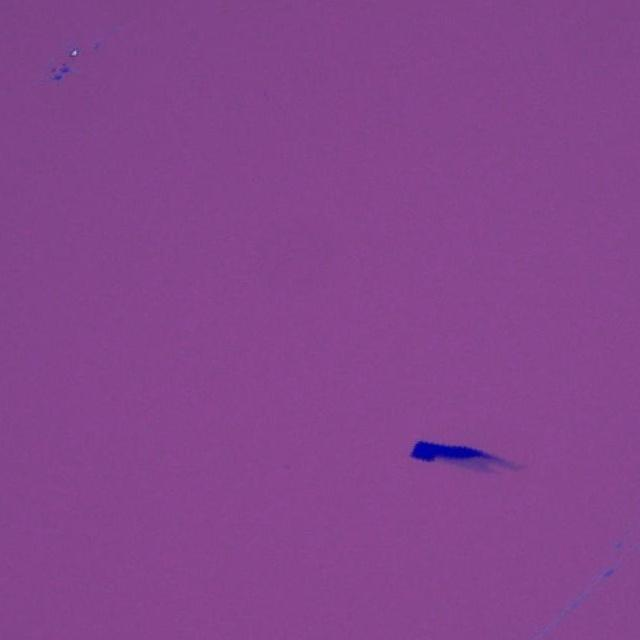monolayer-eWW4: (441, 455, 524, 477)
